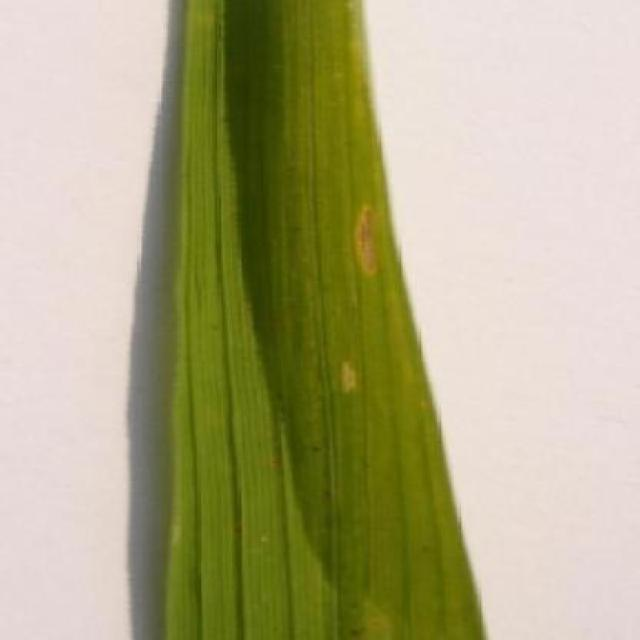Brown_Spot: (176, 0, 484, 640)
